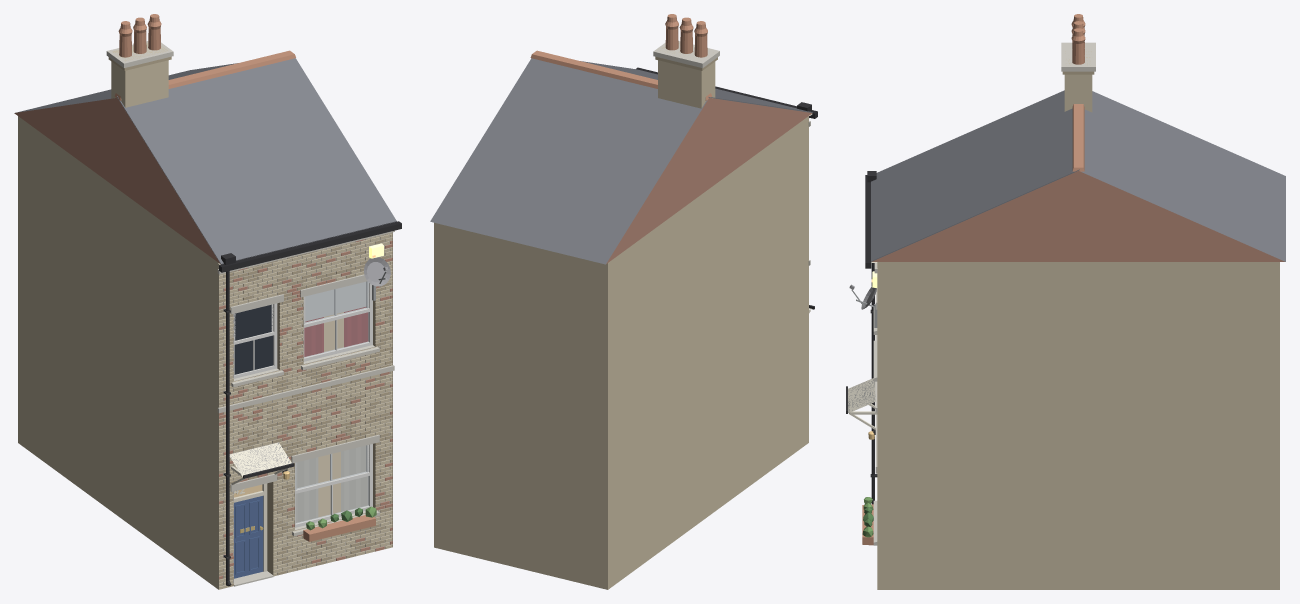
The model's file is exterior_terrace_a.fbx.
3 renders of one model, left to right at view 1: azimuth 30°, elevation 25°; view 2: azimuth 150°, elevation 25°; view 3: azimuth 270°, elevation 25°, orthographic.
Visible parts, largest first — view 1: exterior_terrace_a; view 2: exterior_terrace_a; view 3: exterior_terrace_a.
Boxes of the visible parts, left/top/right/bottom form: exterior_terrace_a: left=14, top=14, right=401, bottom=589; exterior_terrace_a: left=430, top=14, right=817, bottom=589; exterior_terrace_a: left=846, top=14, right=1285, bottom=589.
Size of the model in its own units: 4.14 by 10.8 by 8.74.
